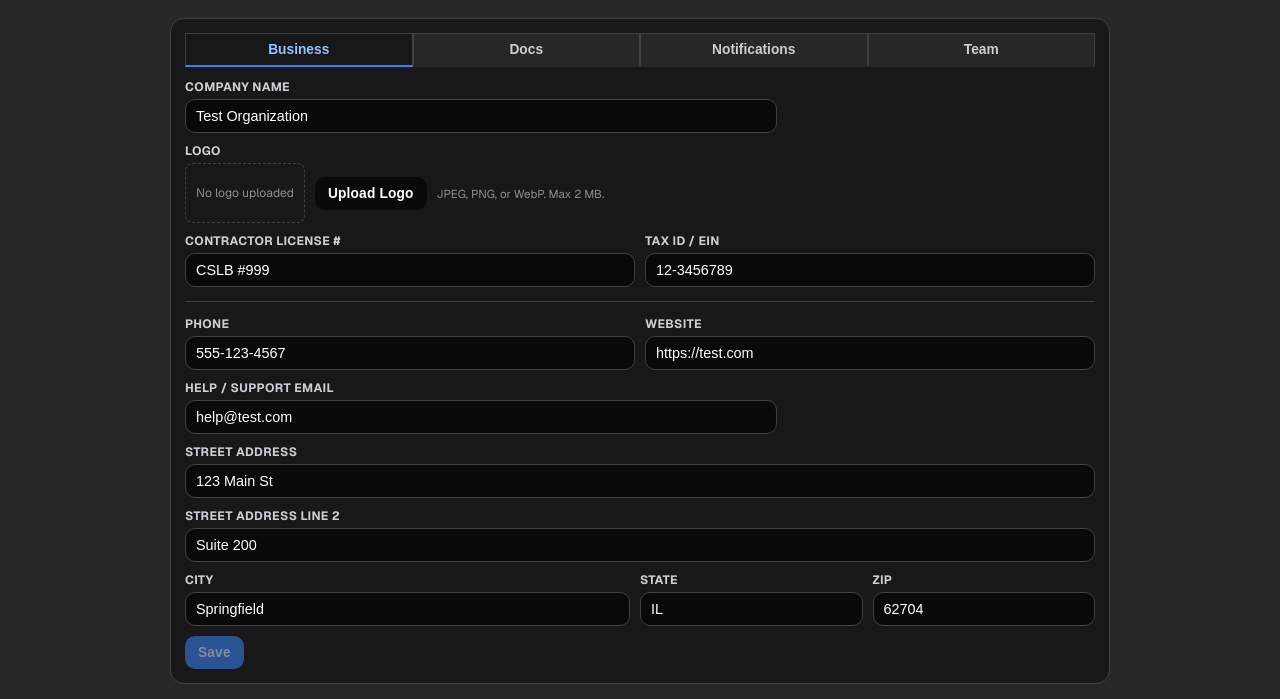
Test: OrganizationConsole > Business Profile › shows error on save failure
Replace the text in the field showing "Test Organization" with "Fail Org": point(481, 116) [185,99,776,133]
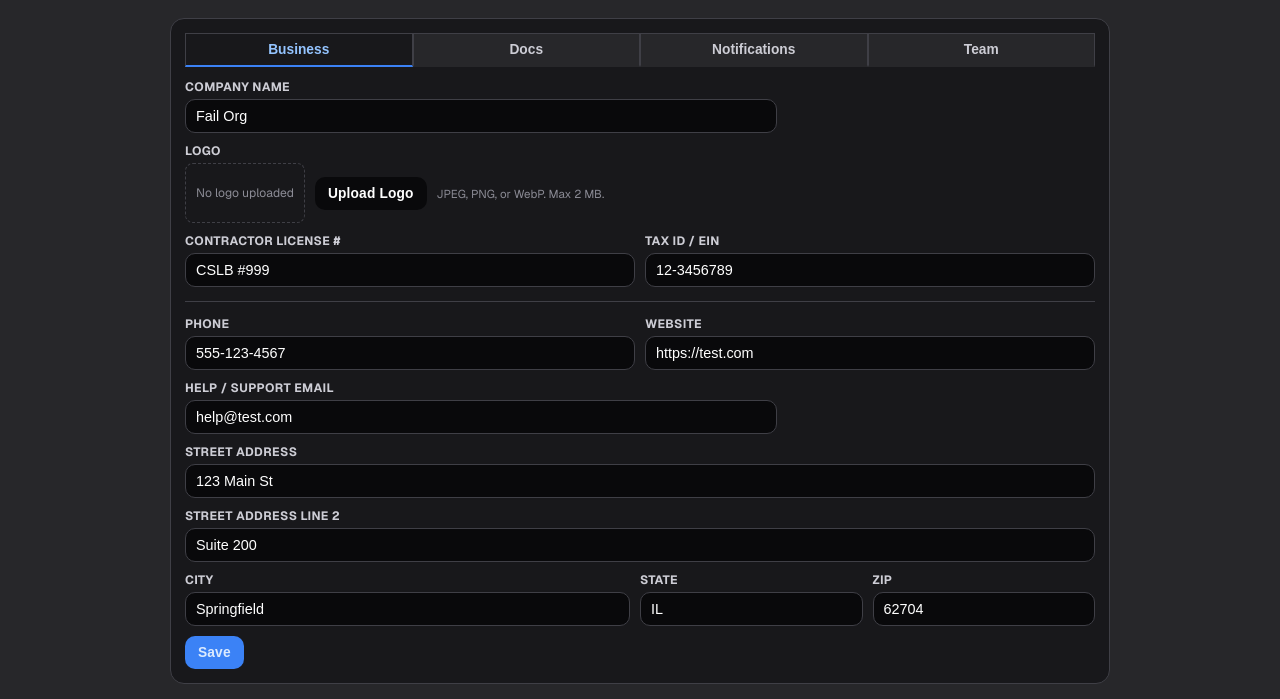
Click the button "Save": point(214, 652) [185,636,244,669]
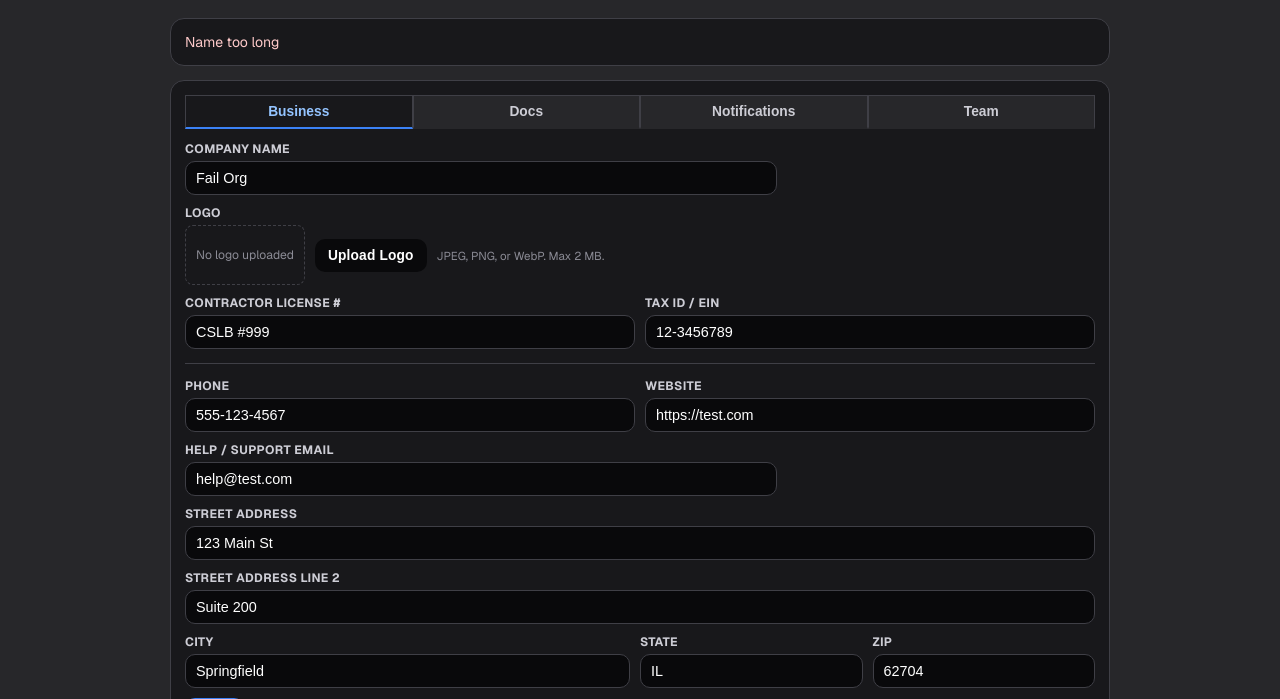
Expected: the text "Name too long" is shown, [185,33,279,51]
